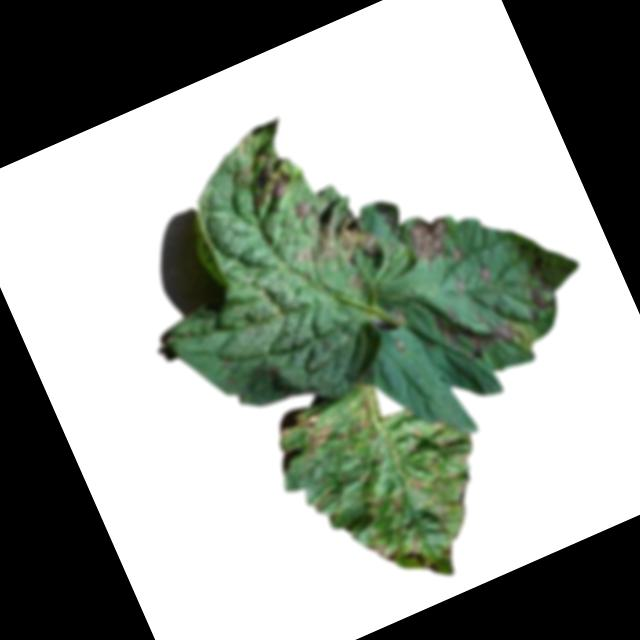Early_blight: (279, 176, 384, 282), (426, 277, 523, 371), (226, 142, 297, 213), (401, 207, 456, 268), (292, 406, 334, 453), (404, 532, 443, 582), (364, 530, 405, 570), (518, 279, 552, 323), (333, 413, 377, 444)
